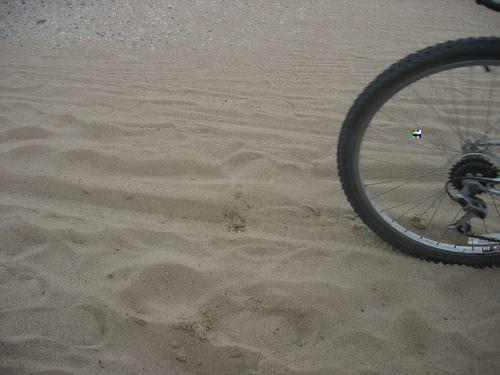car: (335, 1, 500, 267)
